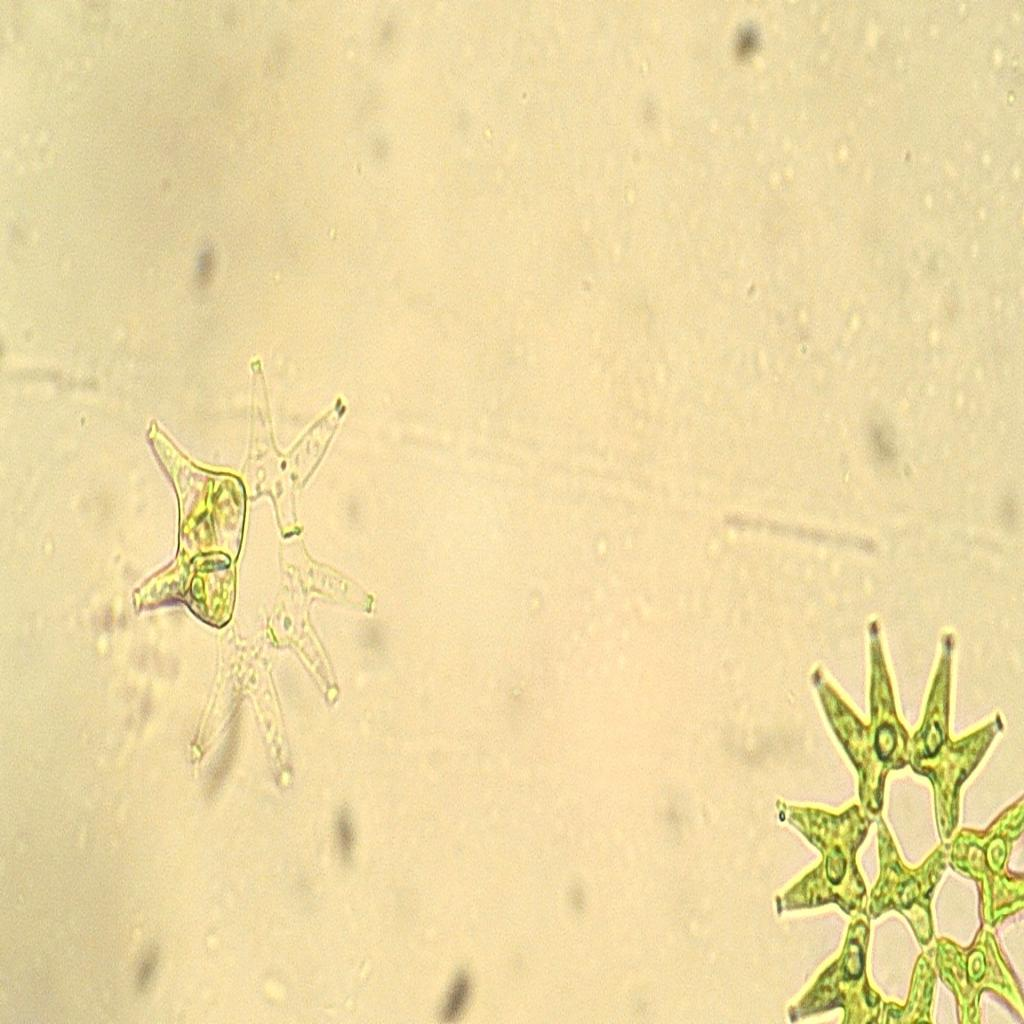Pediastrum_75TH: (98, 347, 416, 817)
